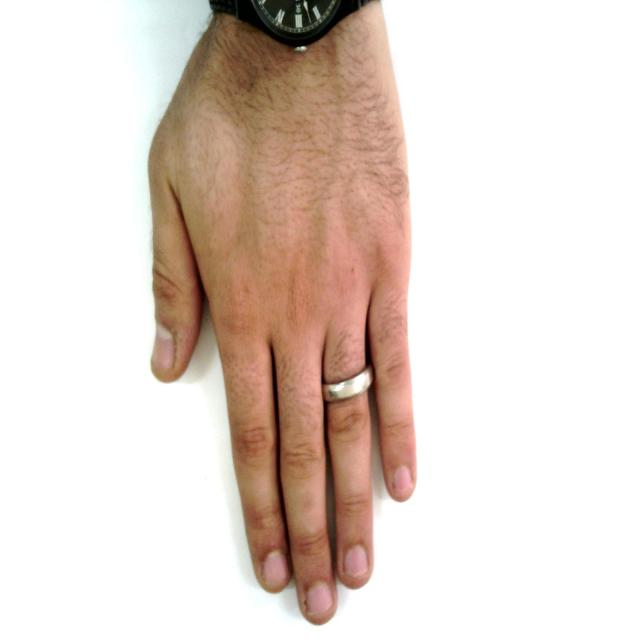Nail: (151, 323, 175, 370), (262, 550, 290, 590), (306, 582, 334, 617), (344, 546, 369, 578), (393, 466, 414, 502)
